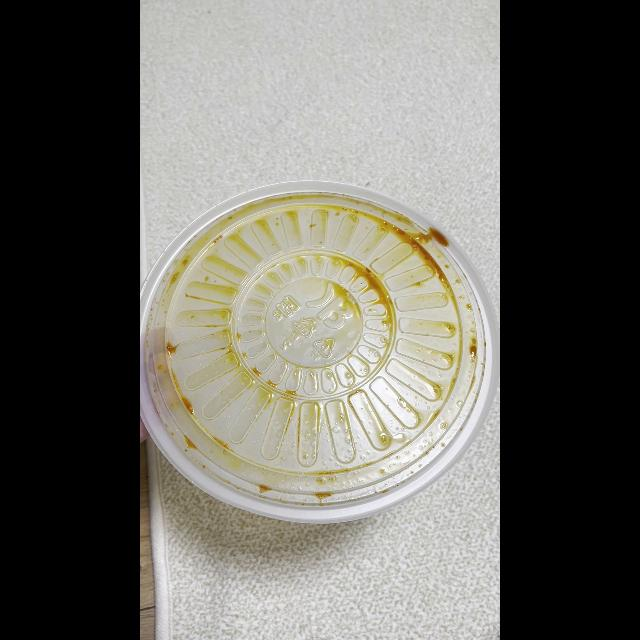dirty: (141, 182, 491, 512)
